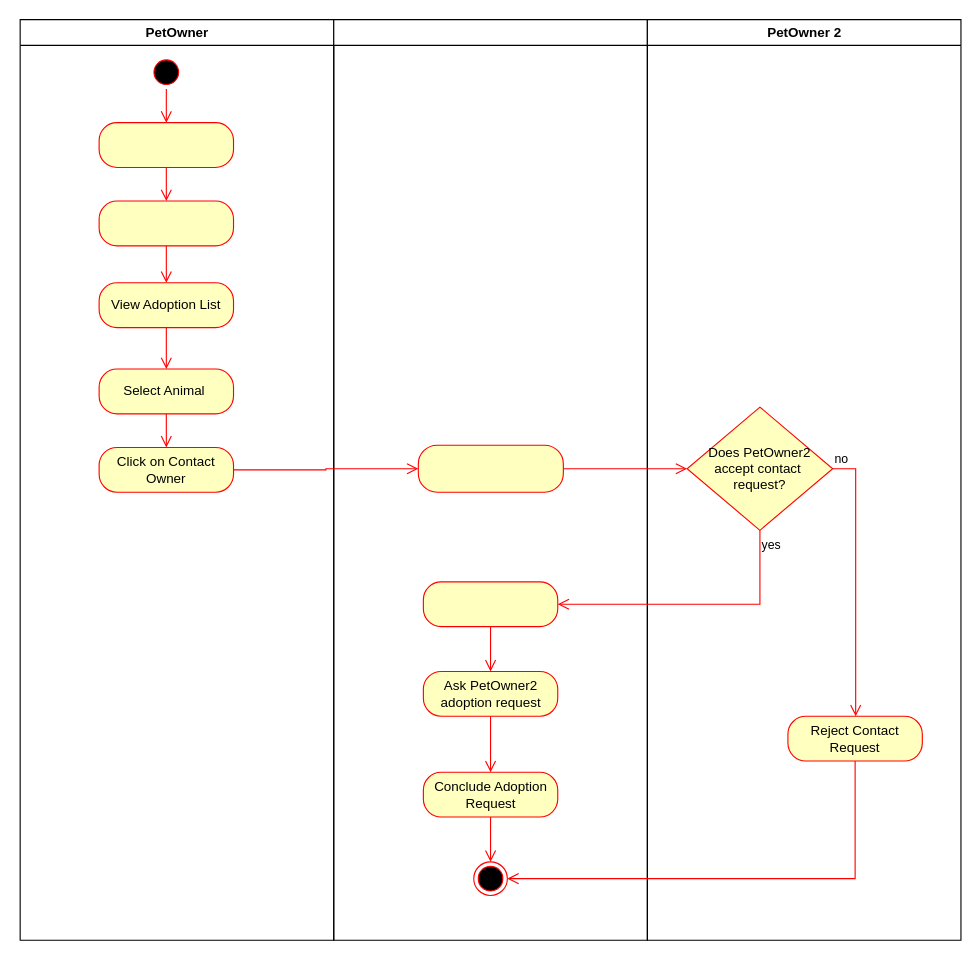
The diagram is 980 pixels wide and 960 high, and some of its shapes have lost their labels. Each missing label, with the box of its shape:
Click Adoption on Menu: (98, 200, 234, 246)
Display Contact Info of two parties to each other: (422, 581, 558, 627)
Login: (98, 122, 234, 167)
Send Contact Request to PetOwner2: (417, 444, 563, 492)
System: (333, 18, 647, 940)
